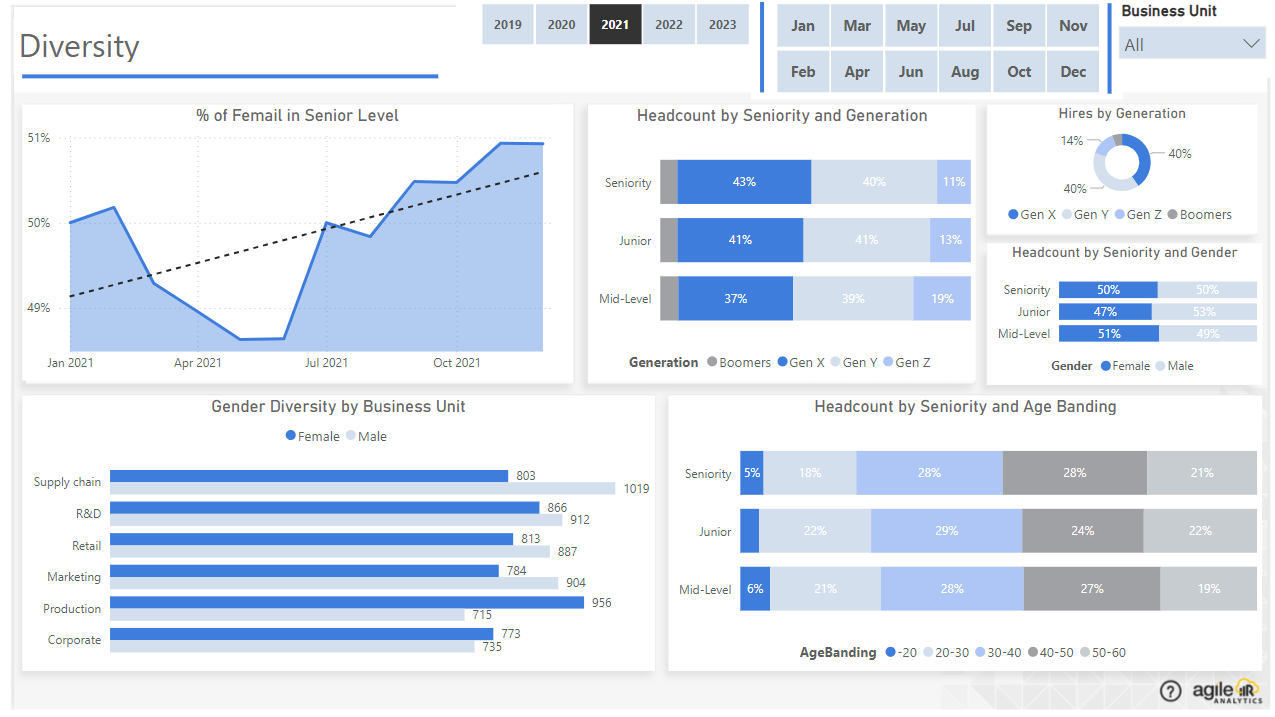

The page's visual inventory and layout, read from the dashboard file:
{"tool":"powerbi","page":{"name":"Page 1","canvas":[1280,720],"ordinal":0},"visuals":[{"type":"shape","box":[8.6,355.7,1262,111],"z":0},{"type":"textbox","box":[1,26.2,370.5,55],"z":1000},{"type":"shape","box":[8,50.6,380,61.1],"z":2000},{"type":"slicer","fields":{"Values":["v_dim_date.Year"]},"box":[459.8,0,316.7,53.8],"z":3000},{"type":"slicer","fields":{"Values":["v_dim_businessunit.Name"]},"box":[1112.8,0,167.5,80.7],"z":4000},{"type":"slicer","fields":{"Values":["v_dim_date.MonthNameShort"]},"box":[754.6,0,372.2,102.4],"z":5000},{"type":"shape","box":[673.8,4.9,187.1,90.5],"z":6000},{"type":"shape","box":[1019.8,6.1,187.1,90.5],"z":7000},{"type":"shape","box":[8.6,233.5,1262,111],"z":8000},{"type":"shape","box":[8.6,111.3,1262,111],"z":9000},{"type":"shape","box":[8.6,600.4,1262,111.3],"z":10000},{"type":"donutChart","title":"Headcount by ContractType","fields":{"Y":["CountNonNull(v_fact_headcount.Headcount)"],"Category":["v_fact_headcount.ContractType"]},"box":[448.8,111.3,244.6,110.1],"z":11000},{"type":"clusteredColumnChart","title":"Headcount by Seniority","fields":{"Category":["v_dim_senioritylevel.Name"],"Y":["Sum(v_fact_headcount.Headcount)"]},"box":[731,111,289,110],"z":12000},{"type":"shape","box":[8.6,477.9,1262,111.3],"z":13000},{"type":"card","title":"Average Tenure","fields":{"Values":["v_dim_employee.AverageTenureYears"]},"box":[1052.4,110.9,176.4,86.8],"z":14000},{"type":"donutChart","title":"Headcount by Gender","fields":{"Category":["v_fact_headcount.Gender"],"Y":["CountNonNull(v_fact_headcount.Headcount)"]},"box":[460,234,224,106],"z":15000},{"type":"clusteredColumnChart","title":"Headcount by Age Range","fields":{"Category":["v_fact_headcount.AgeBanding"],"Y":["CountNonNull(v_fact_headcount.Headcount)"]},"box":[704,235,348,105],"z":16000},{"type":"cardVisual","title":"Average Age","fields":{"Data":["Avg(v_fact_headcount.Age)"]},"box":[1063.8,233.2,165,88.2],"z":17000},{"type":"textbox","title":"Headcount","box":[22,119.8,95.4,47.7],"z":18000},{"type":"image","box":[21.6,132.7,79.4,89.5],"z":19000},{"type":"kpi","title":"Headcount","fields":{"TrendLine":["v_dim_date.DateValue"],"Goal":["v_fact_headcount.HeadcountPM"],"Indicator":["v_fact_headcount.HeadcountMe"]},"box":[143.7,112.3,292.6,111],"z":20000},{"type":"image","box":[22,268,75,75],"z":21000},{"type":"kpi","title":"Female * of Seniors","fields":{"TrendLine":["v_dim_date.DateValue"],"Goal":["v_fact_headcount.Female%OfSeniorPM"],"Indicator":["v_fact_headcount.Female%OfSenior"]},"box":[142,235,294,105],"z":22000},{"type":"image","box":[23.1,379.4,79.4,88],"z":23000},{"type":"textbox","title":"Diversity","box":[23.2,245.8,95.4,47.7],"z":24000},{"type":"textbox","title":"Hiring","box":[12.2,363.2,95.4,47.7],"z":25000},{"type":"donutChart","title":"Hires by Contract Type","fields":{"Category":["v_dim_vacancy.PositionType"],"Y":["v_fact_recruitment.TotalHired"]},"box":[452.4,355.8,238.5,111.3],"z":26000},{"type":"clusteredColumnChart","title":"Hires by Age Range","fields":{"Category":["v_fact_recruitment.AgeBanding"],"Y":["v_fact_recruitment.TotalHired"]},"box":[706.8,355.8,343.6,111.3],"z":27000},{"type":"donutChart","title":"Hires by Gender","fields":{"Category":["v_fact_recruitment.Gender"],"Y":["v_fact_recruitment.TotalHired"]},"box":[1063.9,355.8,188.3,111.3],"z":28000},{"type":"image","box":[20.8,513.6,81.9,75.8],"z":29000},{"type":"textbox","title":"Leave Days","box":[0,485.5,118.6,47.7],"z":30000},{"type":"donutChart","title":"Leave Taken by Category","fields":{"Category":["v_fact_leave.FilteredCategory"],"Y":["Sum(v_fact_leave.Days)"]},"box":[459.8,478.1,223.8,111.3],"z":31000},{"type":"card","title":"Total Annual Leave Taken","fields":{"Values":["v_fact_leave.TotalAnnualLeaveTaken"]},"box":[664.2,477.9,224.7,86.8],"z":32000},{"type":"textbox","title":"days","box":[718.2,564.6,118,48.4],"z":33000},{"type":"textbox","title":"years","box":[1080.9,186.3,118,48.4],"z":34000},{"type":"textbox","title":"years","box":[1086.6,315.7,118,48.4],"z":35000},{"type":"card","title":"Total Sick Leave Taken","fields":{"Values":["v_fact_leave.TotalSickLeaveTaken"]},"box":[865.8,476.9,221.3,86.8],"z":36000},{"type":"textbox","title":"days","box":[918.3,563.7,118.6,47.7],"z":37000},{"type":"card","title":"Total Holiday Leave Taken","fields":{"Values":["v_fact_leave.TotalHolidayLeaveTaken"]},"box":[1073.6,476.9,178.5,86.8],"z":38000},{"type":"textbox","title":"days","box":[1099.3,564.9,118.6,47.7],"z":39000},{"type":"kpi","title":"Hires","fields":{"Indicator":["v_fact_recruitment.TotalHired"],"TrendLine":["v_dim_date.DateValue"],"Goal":["v_fact_recruitment.TotalHiredPM"]},"box":[141.4,357.8,292.9,109.6],"z":40000},{"type":"kpi","title":"Leave Taken","fields":{"Indicator":["v_fact_leave.TotalLeaveTaken"],"TrendLine":["v_dim_date.DateValue"],"Goal":["v_fact_leave.Measure"]},"box":[141.8,478.1,292.3,111.3],"z":41000},{"type":"image","box":[11,628.5,94.2,83.2],"z":42000},{"type":"textbox","title":"Termination","box":[8.6,604.1,101.5,47.7],"z":43000},{"type":"kpi","title":"Terminations","fields":{"TrendLine":["v_dim_date.DateValue"],"Goal":["v_dim_employee.TerminationPM"],"Indicator":["v_dim_employee.TotalTermination"]},"box":[142.4,603.4,293.9,108.4],"z":44000},{"type":"donutChart","title":"Terminations by Category","fields":{"Y":["v_dim_employee.TotalTermination"],"Series":["v_dim_employee.EmploymentStatus"]},"box":[431,600.8,279.5,108.4],"z":45000},{"type":"clusteredColumnChart","title":"Terminations by Seniority","fields":{"Y":["v_dim_employee.TotalTermination"],"Category":["v_dim_senioritylevel.Name"]},"box":[706.8,600.4,182.2,108.8],"z":46000},{"type":"clusteredColumnChart","title":"Terminations by Department","fields":{"Y":["v_dim_employee.TotalTermination"],"Category":["v_dim_department.Name"]},"box":[919.6,600.4,351,108.8],"z":47000}]}

Visuals, with their boxes in screenshot pixels (x1, y1, x2, y2), scaled from the page's 1280x720 canvas onto the 1275x717 screenshot:
shape: BBox(9, 354, 1266, 465)
textbox: BBox(1, 26, 370, 81)
shape: BBox(8, 50, 386, 111)
slicer - v_dim_date.Year: BBox(458, 0, 773, 54)
slicer - v_dim_businessunit.Name: BBox(1108, 0, 1274, 80)
slicer - v_dim_date.MonthNameShort: BBox(752, 0, 1122, 102)
shape: BBox(671, 5, 858, 95)
shape: BBox(1016, 6, 1202, 96)
shape: BBox(9, 233, 1266, 343)
shape: BBox(9, 111, 1266, 221)
shape: BBox(9, 598, 1266, 709)
"Headcount by ContractType" donutChart: BBox(447, 111, 691, 220)
"Headcount by Seniority" clusteredColumnChart: BBox(728, 111, 1016, 220)
shape: BBox(9, 476, 1266, 587)
"Average Tenure" card: BBox(1048, 110, 1224, 197)
"Headcount by Gender" donutChart: BBox(458, 233, 681, 339)
"Headcount by Age Range" clusteredColumnChart: BBox(701, 234, 1048, 339)
"Average Age" cardVisual: BBox(1060, 232, 1224, 320)
"Headcount" textbox: BBox(22, 119, 117, 167)
image: BBox(22, 132, 101, 221)
"Headcount" kpi: BBox(143, 112, 435, 222)
image: BBox(22, 267, 97, 342)
"Female * of Seniors" kpi: BBox(141, 234, 434, 339)
image: BBox(23, 378, 102, 465)
"Diversity" textbox: BBox(23, 245, 118, 292)
"Hiring" textbox: BBox(12, 362, 107, 409)
"Hires by Contract Type" donutChart: BBox(451, 354, 688, 465)
"Hires by Age Range" clusteredColumnChart: BBox(704, 354, 1046, 465)
"Hires by Gender" donutChart: BBox(1060, 354, 1247, 465)
image: BBox(21, 511, 102, 587)
"Leave Days" textbox: BBox(0, 483, 118, 531)
"Leave Taken by Category" donutChart: BBox(458, 476, 681, 587)
"Total Annual Leave Taken" card: BBox(662, 476, 885, 562)
"days" textbox: BBox(715, 562, 833, 610)
"years" textbox: BBox(1077, 186, 1194, 234)
"years" textbox: BBox(1082, 314, 1200, 363)
"Total Sick Leave Taken" card: BBox(862, 475, 1083, 561)
"days" textbox: BBox(915, 561, 1033, 609)
"Total Holiday Leave Taken" card: BBox(1069, 475, 1247, 561)
"days" textbox: BBox(1095, 563, 1213, 610)
"Hires" kpi: BBox(141, 356, 433, 465)
"Leave Taken" kpi: BBox(141, 476, 432, 587)
image: BBox(11, 626, 105, 709)
"Termination" textbox: BBox(9, 602, 110, 649)
"Terminations" kpi: BBox(142, 601, 435, 709)
"Terminations by Category" donutChart: BBox(429, 598, 708, 706)
"Terminations by Seniority" clusteredColumnChart: BBox(704, 598, 886, 706)
"Terminations by Department" clusteredColumnChart: BBox(916, 598, 1266, 706)
